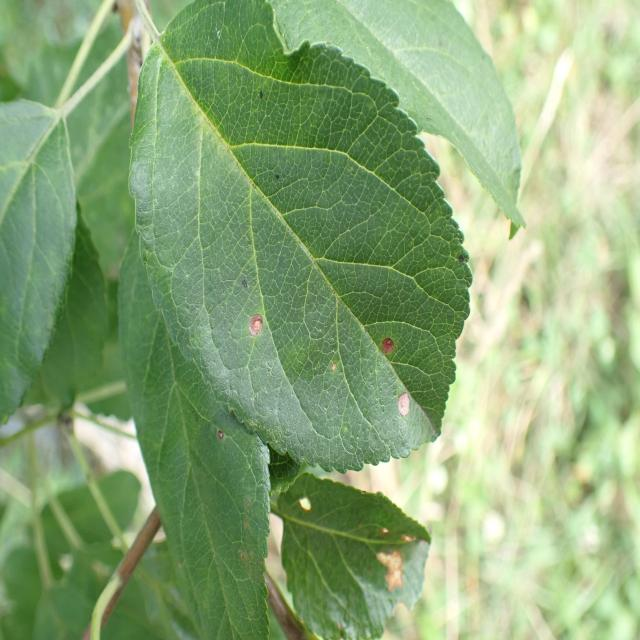Black Rot: (370, 506, 422, 614), (239, 306, 275, 356), (392, 375, 418, 426), (376, 331, 401, 373), (296, 483, 322, 521)
